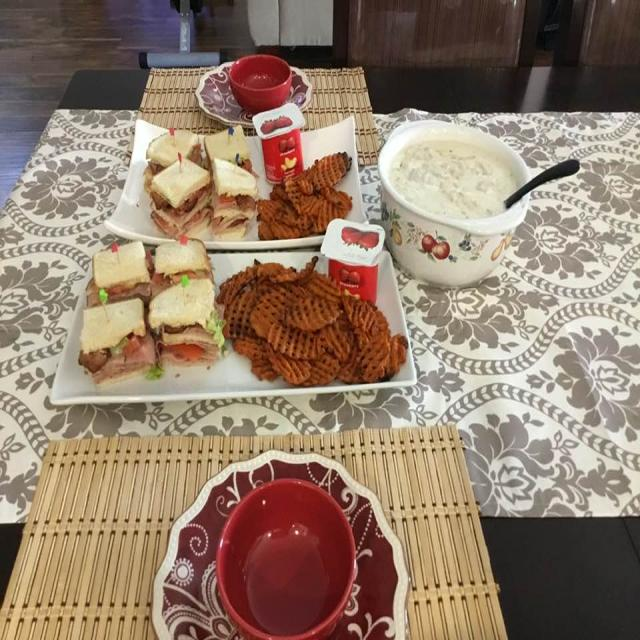Sandwich: (77, 117, 260, 400)
